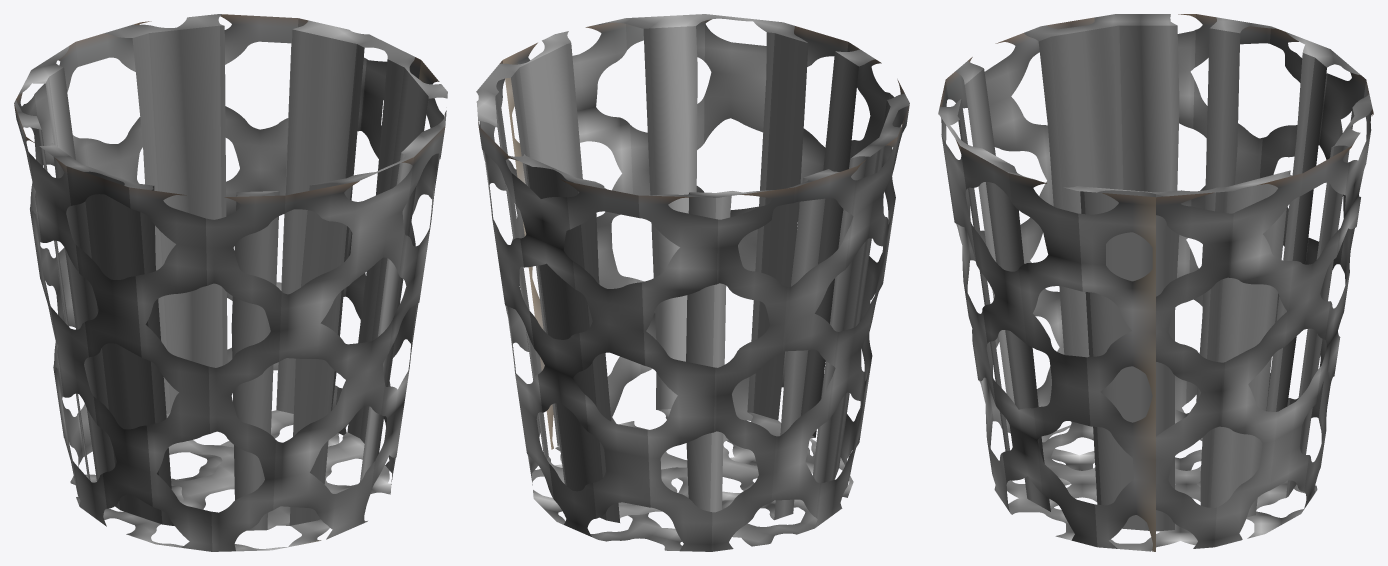
The model's file is papelera.fbx.
The picture shows the model from 3 angles, left to right: view 1: azimuth 30°, elevation 25°; view 2: azimuth 150°, elevation 25°; view 3: azimuth 270°, elevation 25°; orthographic projection.
Visible parts, largest first — view 1: Basura; view 2: Basura; view 3: Basura.
Part boxes in pixels (<box>): Basura: <box>14,14,447,551</box>; Basura: <box>476,14,909,551</box>; Basura: <box>938,14,1373,551</box>.
Size of the model in its own units: 45.49 by 43.83 by 45.68.
